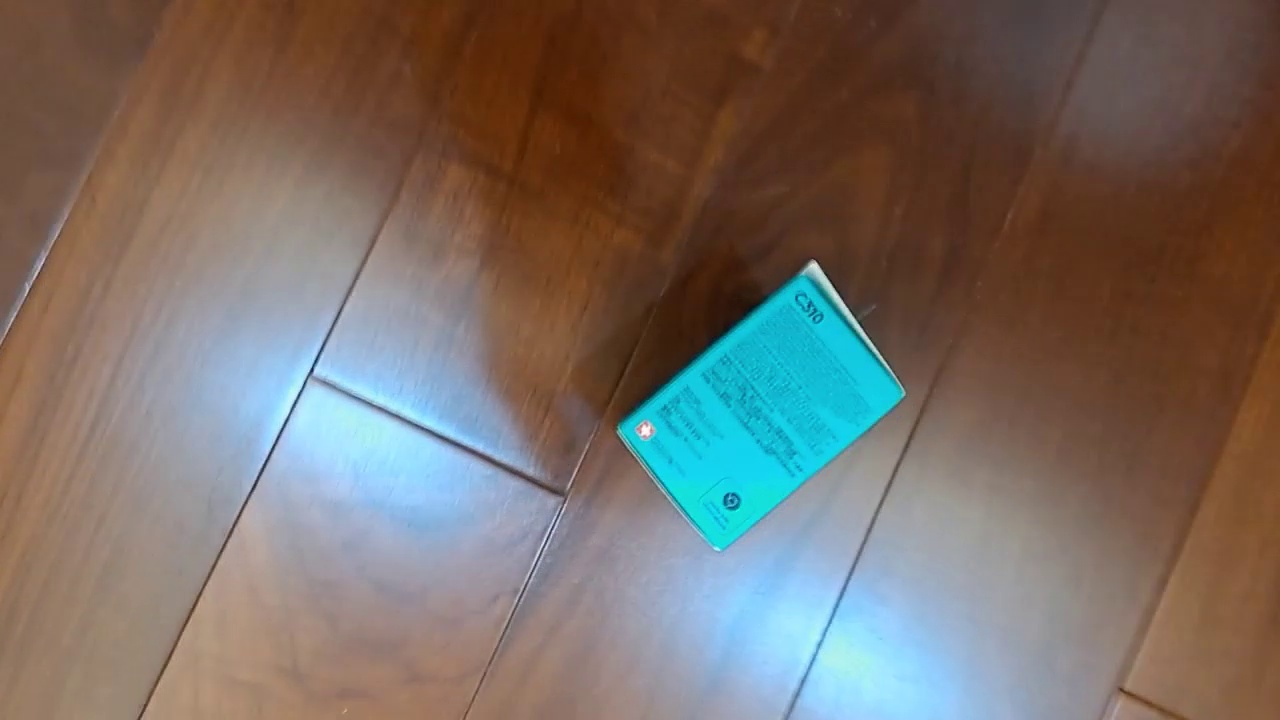webcam: (613, 255, 909, 555)
